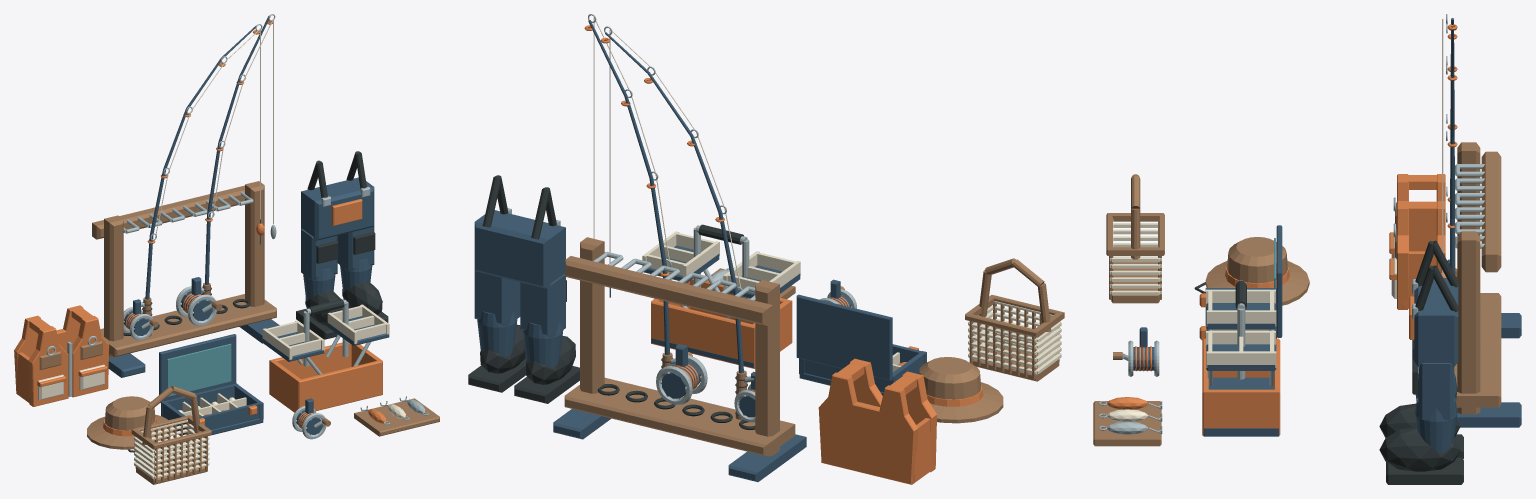
Rendered from harbor-and-tackle-tackle-collection-8718723a__19603.glb.
3 renders of one model, left to right at view 1: azimuth 30°, elevation 25°; view 2: azimuth 150°, elevation 25°; view 3: azimuth 270°, elevation 25°, orthographic. The views are drawn at different scales.
Parts seen in each view (by area): view 1: 000-rod-rack/cedar, 005-chest-waders/navy, 006-fishing-vest/orange, 004-cantilever-tackle-chest/orange, 003-tackle-organizer/navy, 005-chest-waders/rubber, 010-wicker-creel/cedar, 004-cantilever-tackle-chest/ivory, 003-tackle-organizer/glass, 007-fishing-hat/cedar, 010-wicker-creel/ivory, 002-sea-fishing-rod/navy (+15 smaller); view 2: 000-rod-rack/cedar, 005-chest-waders/navy, 006-fishing-vest/orange, 003-tackle-organizer/navy, 005-chest-waders/rubber, 010-wicker-creel/cedar, 004-cantilever-tackle-chest/orange, 007-fishing-hat/cedar, 004-cantilever-tackle-chest/ivory, 010-wicker-creel/ivory, 000-rod-rack/navy, 002-sea-fishing-rod/navy (+8 smaller); view 3: 000-rod-rack/cedar, 005-chest-waders/rubber, 005-chest-waders/navy, 006-fishing-vest/orange, 004-cantilever-tackle-chest/orange, 004-cantilever-tackle-chest/ivory, 007-fishing-hat/cedar, 010-wicker-creel/cedar, 004-cantilever-tackle-chest/navy, 010-wicker-creel/ivory, 009-lure-display/cedar, 000-rod-rack/navy (+8 smaller).
Boxes of the visible parts, box(x1,y1,x2,y2) form: 000-rod-rack/cedar: box(92, 181, 276, 357); 005-chest-waders/navy: box(301, 177, 374, 300); 006-fishing-vest/orange: box(14, 305, 109, 406); 004-cantilever-tackle-chest/orange: box(269, 342, 382, 412); 003-tackle-organizer/navy: box(159, 334, 263, 434); 005-chest-waders/rubber: box(296, 151, 388, 339); 010-wicker-creel/cedar: box(131, 386, 211, 484); 004-cantilever-tackle-chest/ivory: box(262, 304, 389, 359); 003-tackle-organizer/glass: box(167, 343, 231, 396); 007-fishing-hat/cedar: box(87, 396, 173, 449); 010-wicker-creel/ivory: box(134, 420, 209, 478); 002-sea-fishing-rod/navy: box(180, 16, 270, 320); 000-rod-rack/cedar: box(564, 237, 795, 456); 005-chest-waders/navy: box(474, 210, 565, 367); 006-fishing-vest/orange: box(818, 358, 936, 484); 003-tackle-organizer/navy: box(796, 294, 926, 395); 005-chest-waders/rubber: box(468, 175, 579, 403); 010-wicker-creel/cedar: box(965, 258, 1064, 381); 004-cantilever-tackle-chest/orange: box(651, 278, 792, 368); 007-fishing-hat/cedar: box(919, 357, 1003, 423); 004-cantilever-tackle-chest/ivory: box(642, 231, 800, 293); 010-wicker-creel/ivory: box(968, 301, 1061, 374); 000-rod-rack/navy: box(553, 409, 806, 481); 002-sea-fishing-rod/navy: box(588, 20, 701, 398); 000-rod-rack/cedar: box(1454, 142, 1501, 414); 005-chest-waders/rubber: box(1379, 240, 1463, 484); 005-chest-waders/navy: box(1414, 278, 1458, 453); 006-fishing-vest/orange: box(1389, 174, 1445, 309); 004-cantilever-tackle-chest/orange: box(1202, 338, 1280, 436); 004-cantilever-tackle-chest/ivory: box(1206, 289, 1276, 367); 007-fishing-hat/cedar: box(1205, 237, 1309, 305); 010-wicker-creel/cedar: box(1106, 174, 1164, 303); 004-cantilever-tackle-chest/navy: box(1204, 303, 1278, 436); 010-wicker-creel/ivory: box(1109, 219, 1161, 295); 009-lure-display/cedar: box(1093, 401, 1161, 446); 000-rod-rack/navy: box(1456, 313, 1521, 427).
Size of the model in its own units: 3.26 by 2.79 by 2.64.
